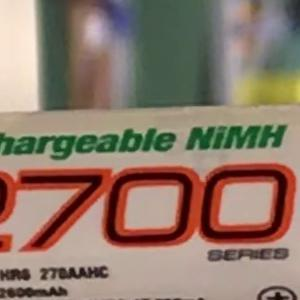NIMH: (175, 115, 297, 160)
